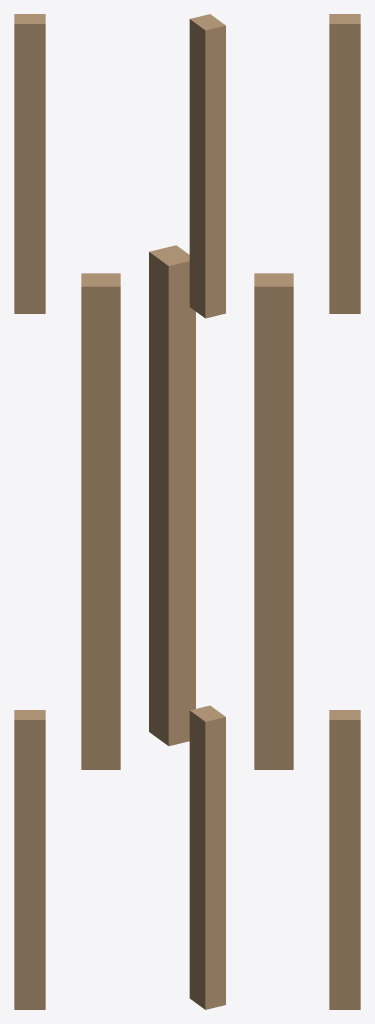
File: nordic_recurve_bow.glb
The picture shows the model from 3 angles, left to right: view 1: azimuth 90°, elevation 25°; view 2: azimuth 210°, elevation 25°; view 3: azimuth 270°, elevation 25°; orthographic projection.
Visible parts, largest first — view 1: nordic_recurve_bow; view 2: nordic_recurve_bow; view 3: nordic_recurve_bow.
Part boxes in pixels (<box>): nordic_recurve_bow: <box>14,14,120,1009</box>; nordic_recurve_bow: <box>149,14,225,1009</box>; nordic_recurve_bow: <box>254,14,360,1009</box>.
Bounding box in the file's own units: 0.04 × 1.38 × 0.135.
